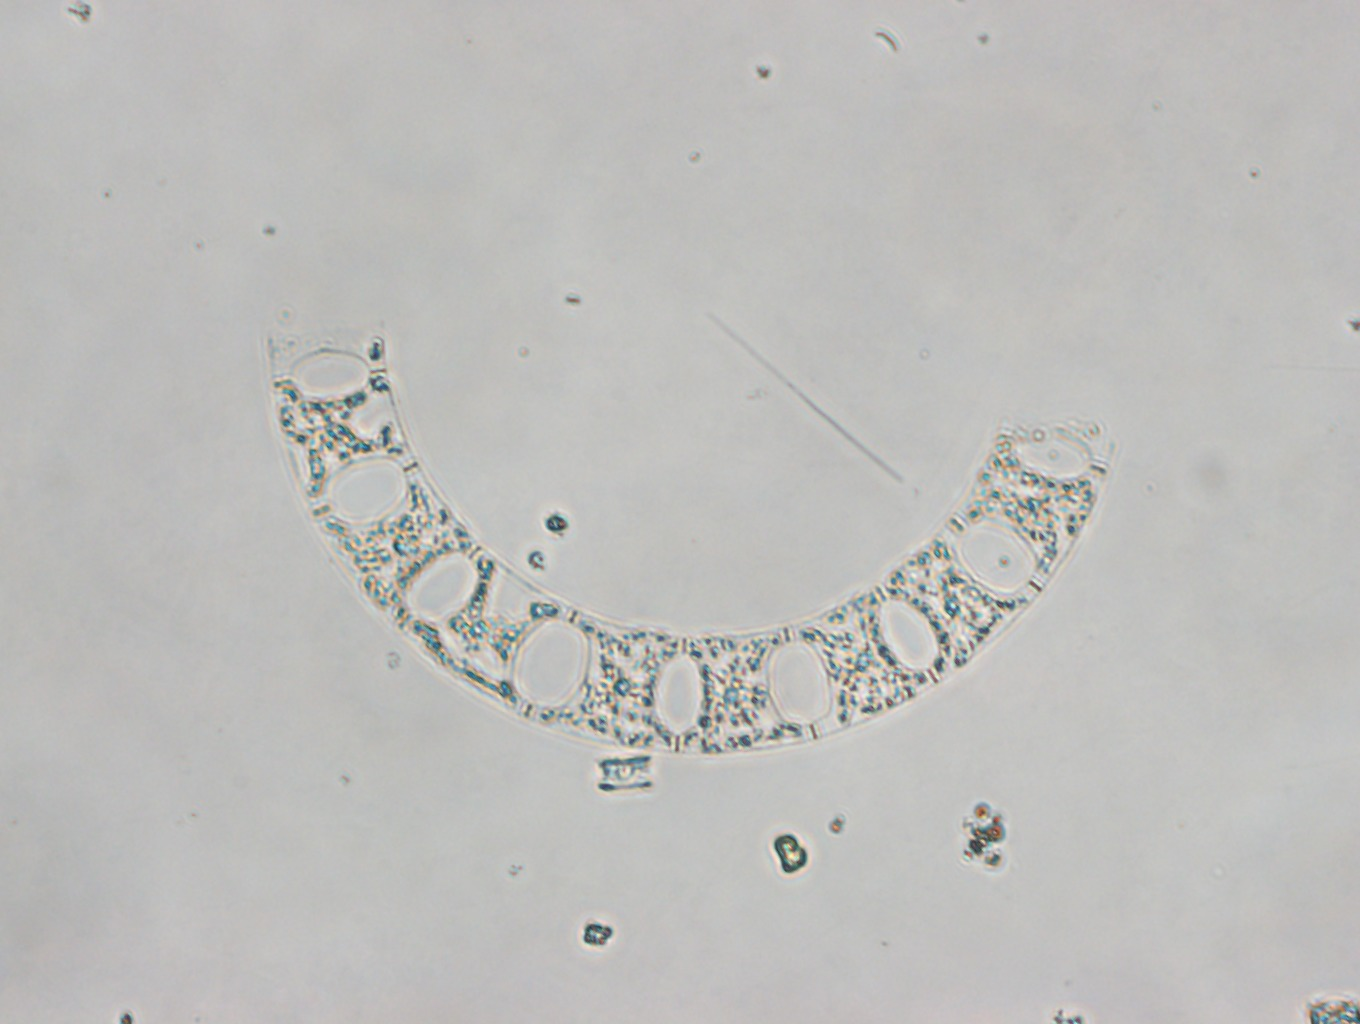eucampia: (264, 329, 1119, 755)
